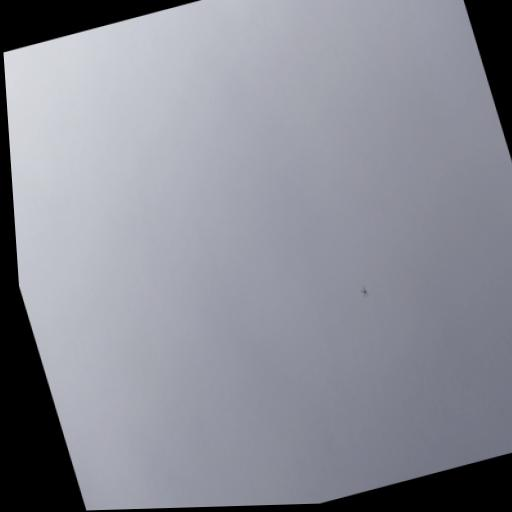drones: (359, 284, 371, 300)
